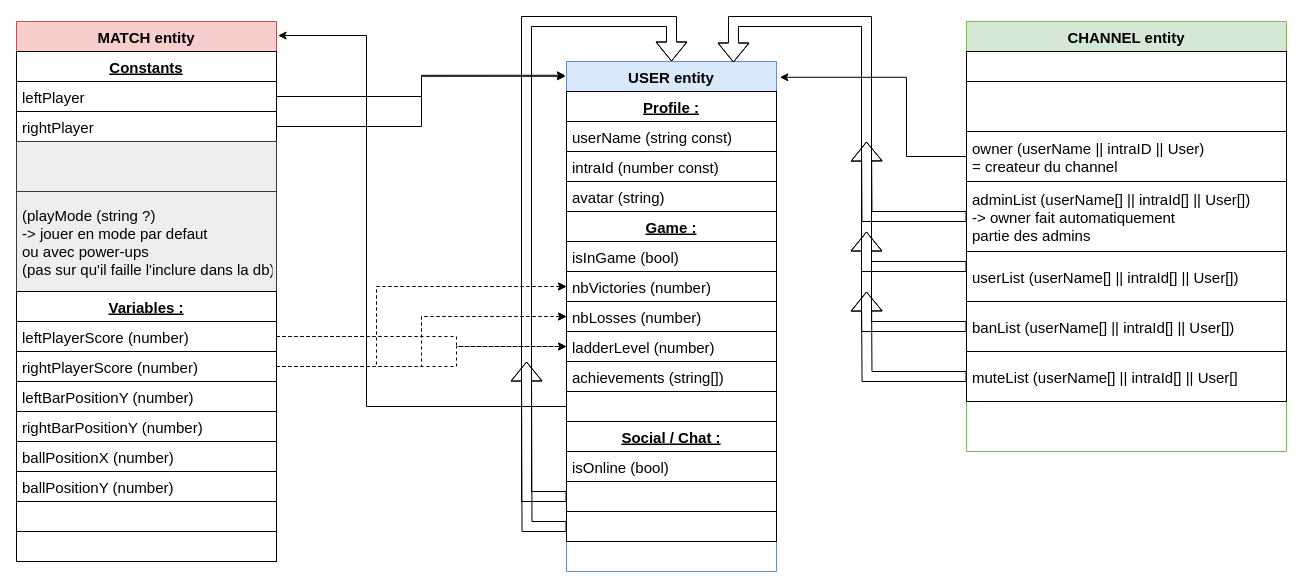
The diagram is 1303 pixels wide and 588 high, and some of its shapes have lost their labels. The centre of each missing label's shape, as x and y in pixels:
"(victor (string or number) -> vide au debut)" goes at [146,166].
"blockList (User[])" goes at [671,526].
"friendsList (User[])" goes at [671,496].
"isPublic (bool)" goes at [1126,66].
"matchHistory (Match[])" goes at [671,406].
"password (string) -> vide si pas de mot de passe" goes at [1126,106].
